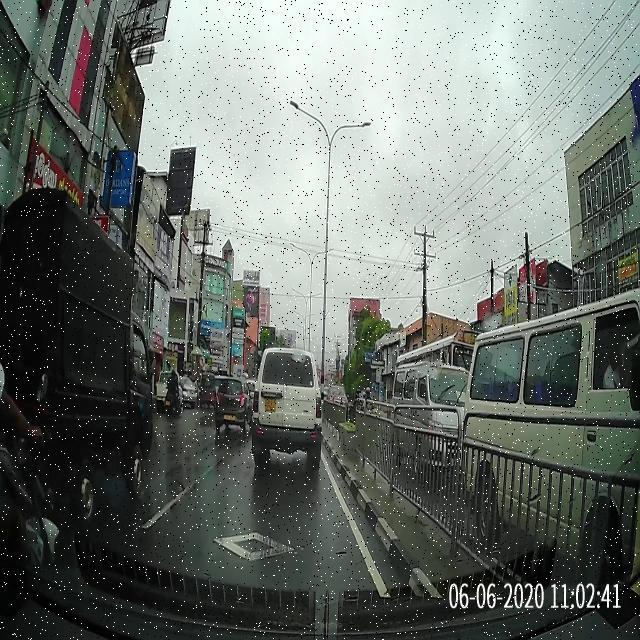diamond: (104, 495, 390, 595)
